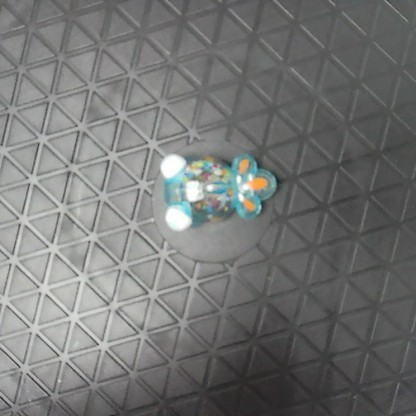bluefish: (154, 147, 278, 232)
